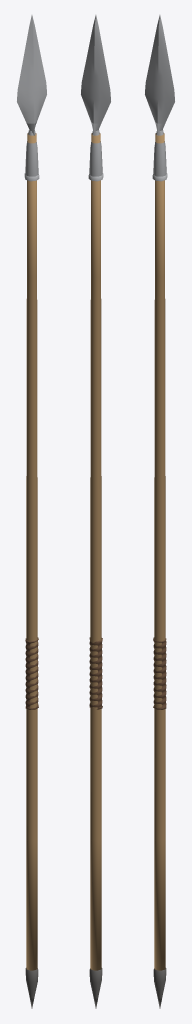
The model's file is longspear.glb.
The picture shows the model from 3 angles, left to right: view 1: azimuth 30°, elevation 25°; view 2: azimuth 150°, elevation 25°; view 3: azimuth 330°, elevation 25°; orthographic projection.
Visible parts, largest first — view 1: longspear; view 2: longspear; view 3: longspear.
Part boxes in pixels (x1=…): longspear: x1=17, y1=15, x2=46, y2=1008; longspear: x1=81, y1=15, x2=110, y2=1008; longspear: x1=145, y1=15, x2=174, y2=1008.
Bounding box in the file's own units: 0.233 × 7.3 × 0.0991.
